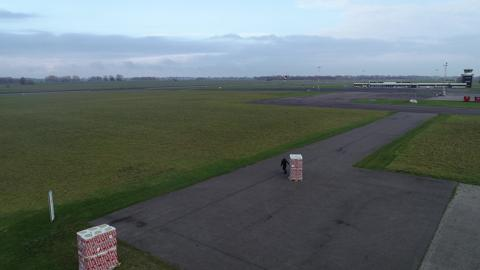RockwoolPallet: (287, 150, 305, 180)
